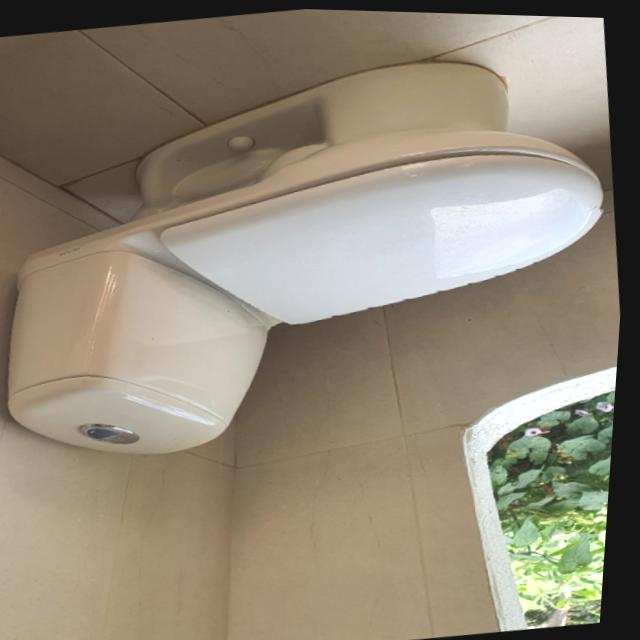toilet: (0, 27, 639, 482)
